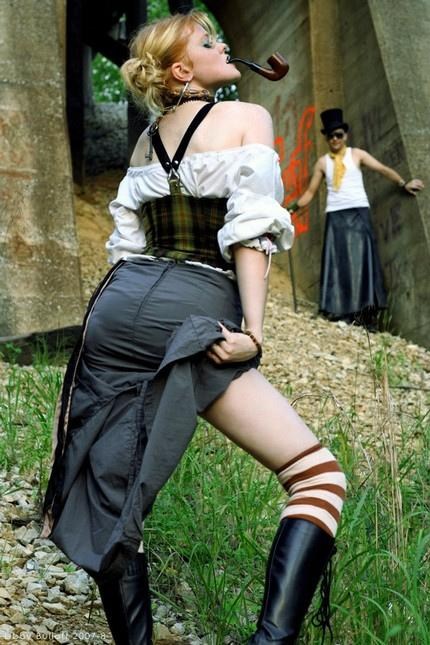trubka: (229, 52, 288, 81)
